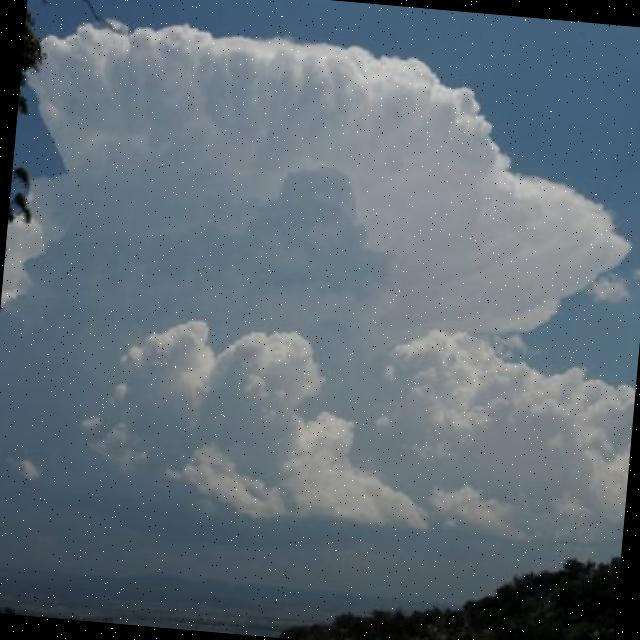Cb: (7, 6, 640, 550)
